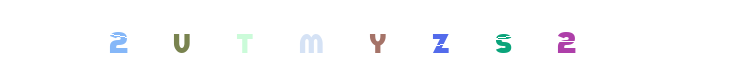2: (113, 0, 193, 80), (526, 0, 606, 80)
M: (305, 0, 385, 80)
S: (463, 0, 543, 80)
T: (258, 0, 338, 80)
U: (141, 0, 221, 80)
Y: (325, 0, 405, 80)
Z: (400, 0, 480, 80)
